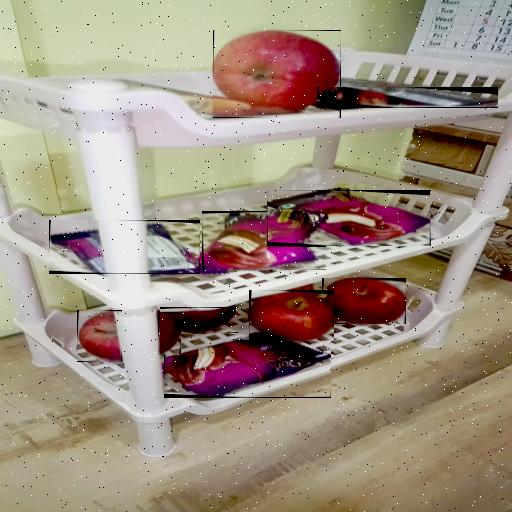Apple: (213, 30, 341, 118), (249, 290, 334, 341), (322, 278, 406, 324), (77, 310, 122, 362), (160, 307, 238, 333), (158, 312, 181, 355)
Choco Fills: (318, 87, 498, 108)
Choco Pie: (164, 334, 331, 398), (268, 190, 432, 246), (49, 220, 200, 274), (202, 211, 326, 270)
